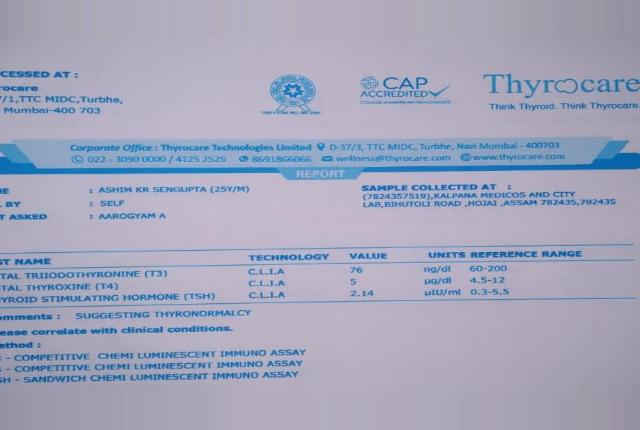Clinical_Conditions: (1, 350, 313, 386)
Name: (97, 182, 252, 195)
Ref_By: (96, 198, 131, 209)
Reference_Range: (467, 262, 516, 300)
Technology: (246, 264, 292, 303)
Test_Asked: (95, 211, 173, 223)
Test_Name: (0, 269, 223, 304)
Unit: (421, 264, 463, 300)
Value: (346, 264, 381, 301)
